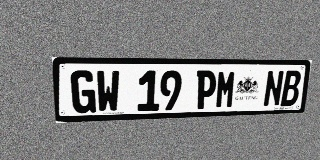1: (138, 70, 160, 111)
9: (160, 70, 182, 110)
B: (280, 70, 302, 106)
G: (70, 70, 96, 114)
M: (215, 70, 237, 109)
N: (263, 70, 285, 107)
P: (195, 70, 217, 109)
W: (96, 70, 120, 113)
